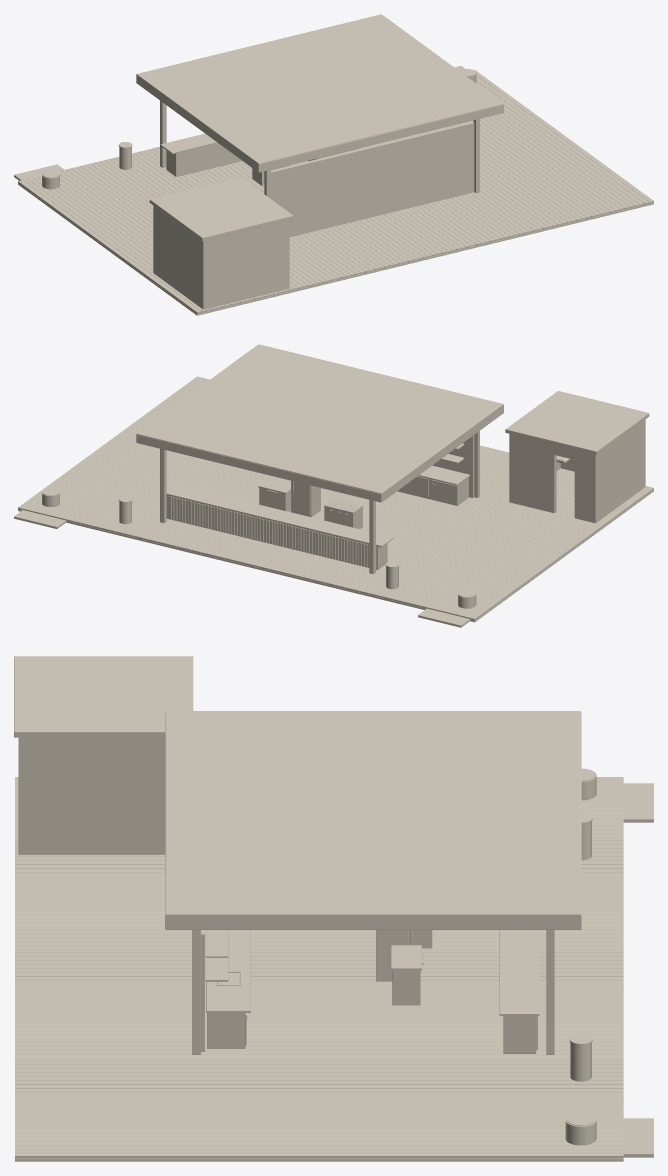
The model's file is KioskPremium_Detailed.fbx.
3 renders of one model, top to bottom at view 1: azimuth 30°, elevation 25°; view 2: azimuth 150°, elevation 25°; view 3: azimuth 270°, elevation 25°, orthographic. The views are drawn at different scales.
Visible parts, largest first — view 1: KioskShellF02; view 2: KioskShellF02; view 3: KioskShellF02.
Boxes of the visible parts, x1,y1,x2,y2 form: KioskShellF02: (14, 14, 653, 315); KioskShellF02: (14, 344, 653, 627); KioskShellF02: (14, 656, 653, 1161).
Size of the model in its own units: 19 by 3.74 by 13.56.
